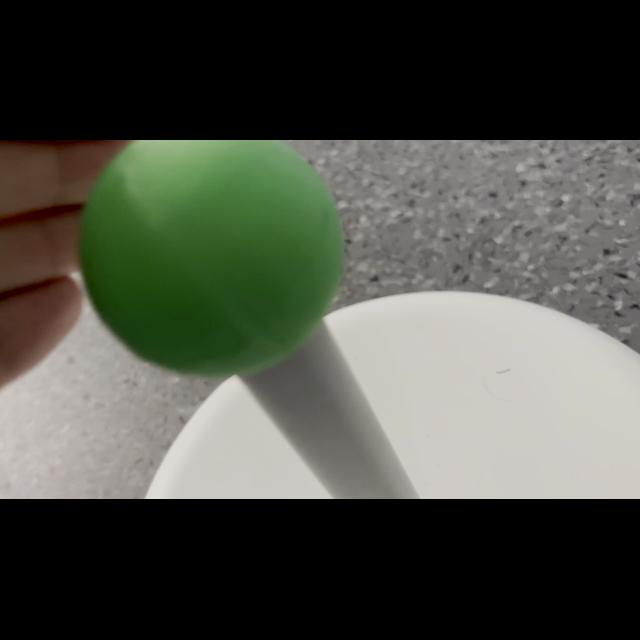objects: (70, 140, 358, 382)
